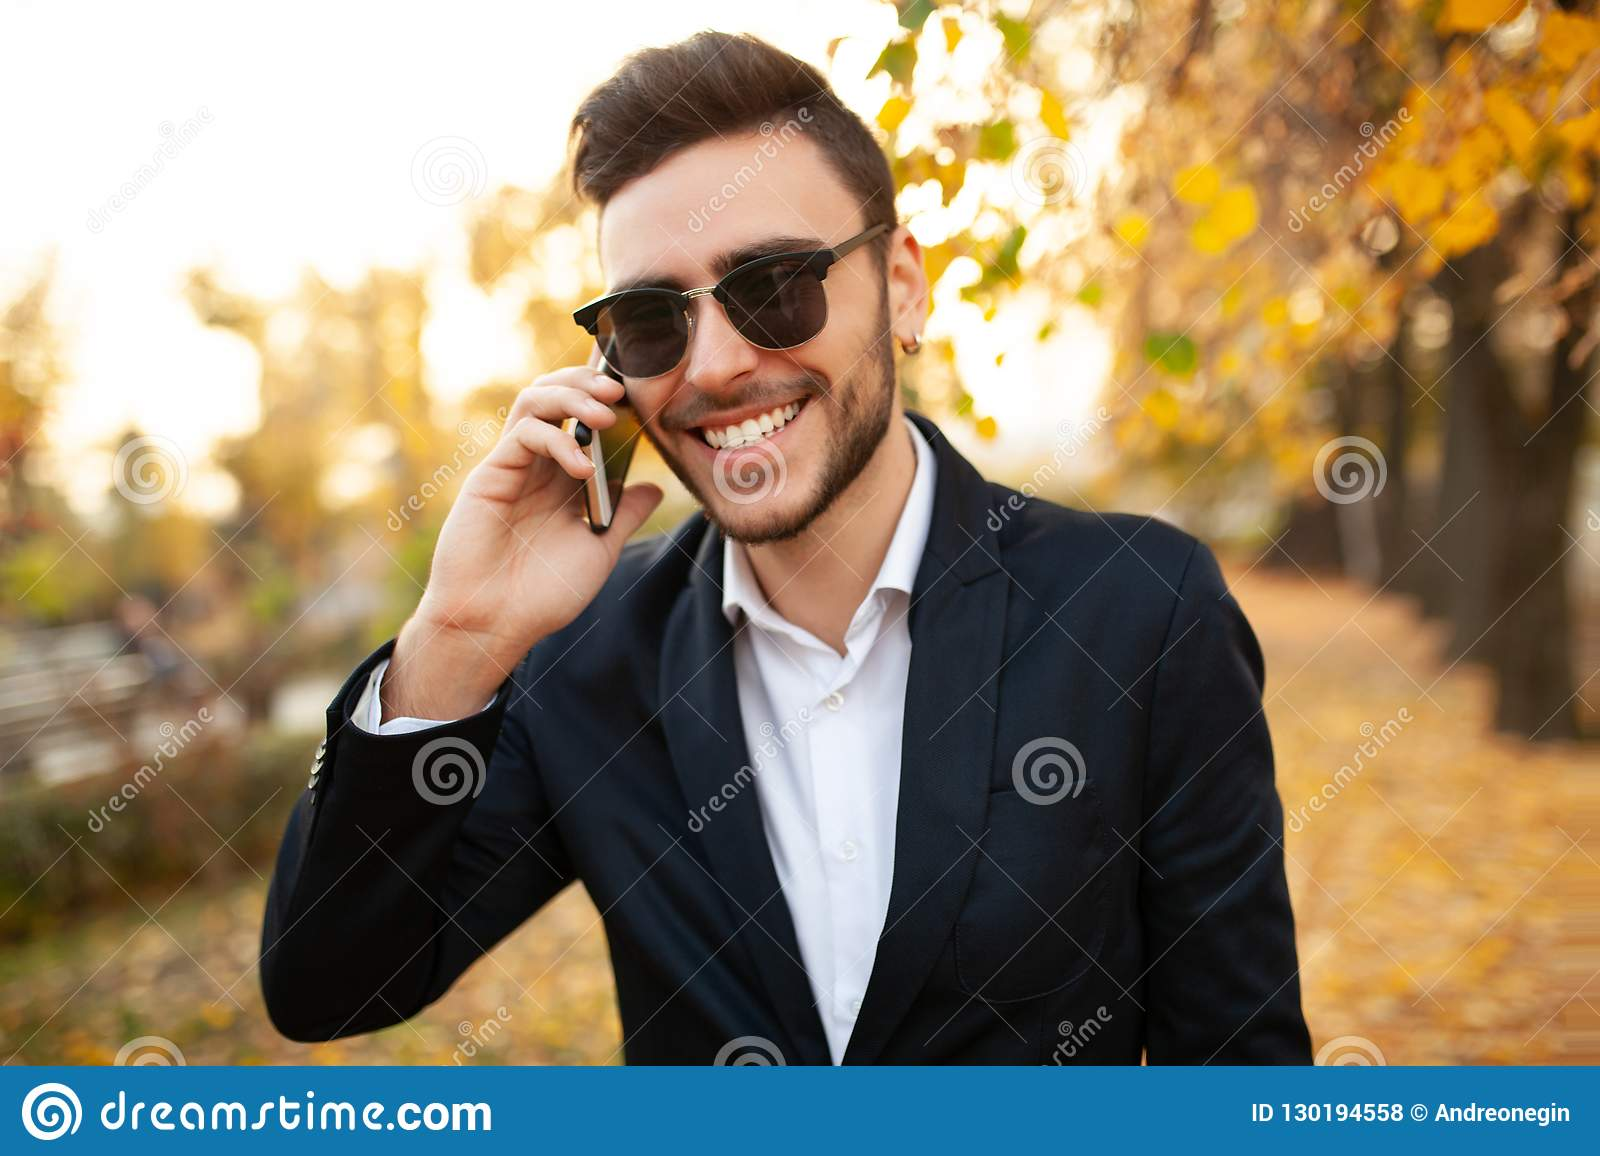phone: (575, 318, 646, 543)
talk: (427, 220, 871, 683)
